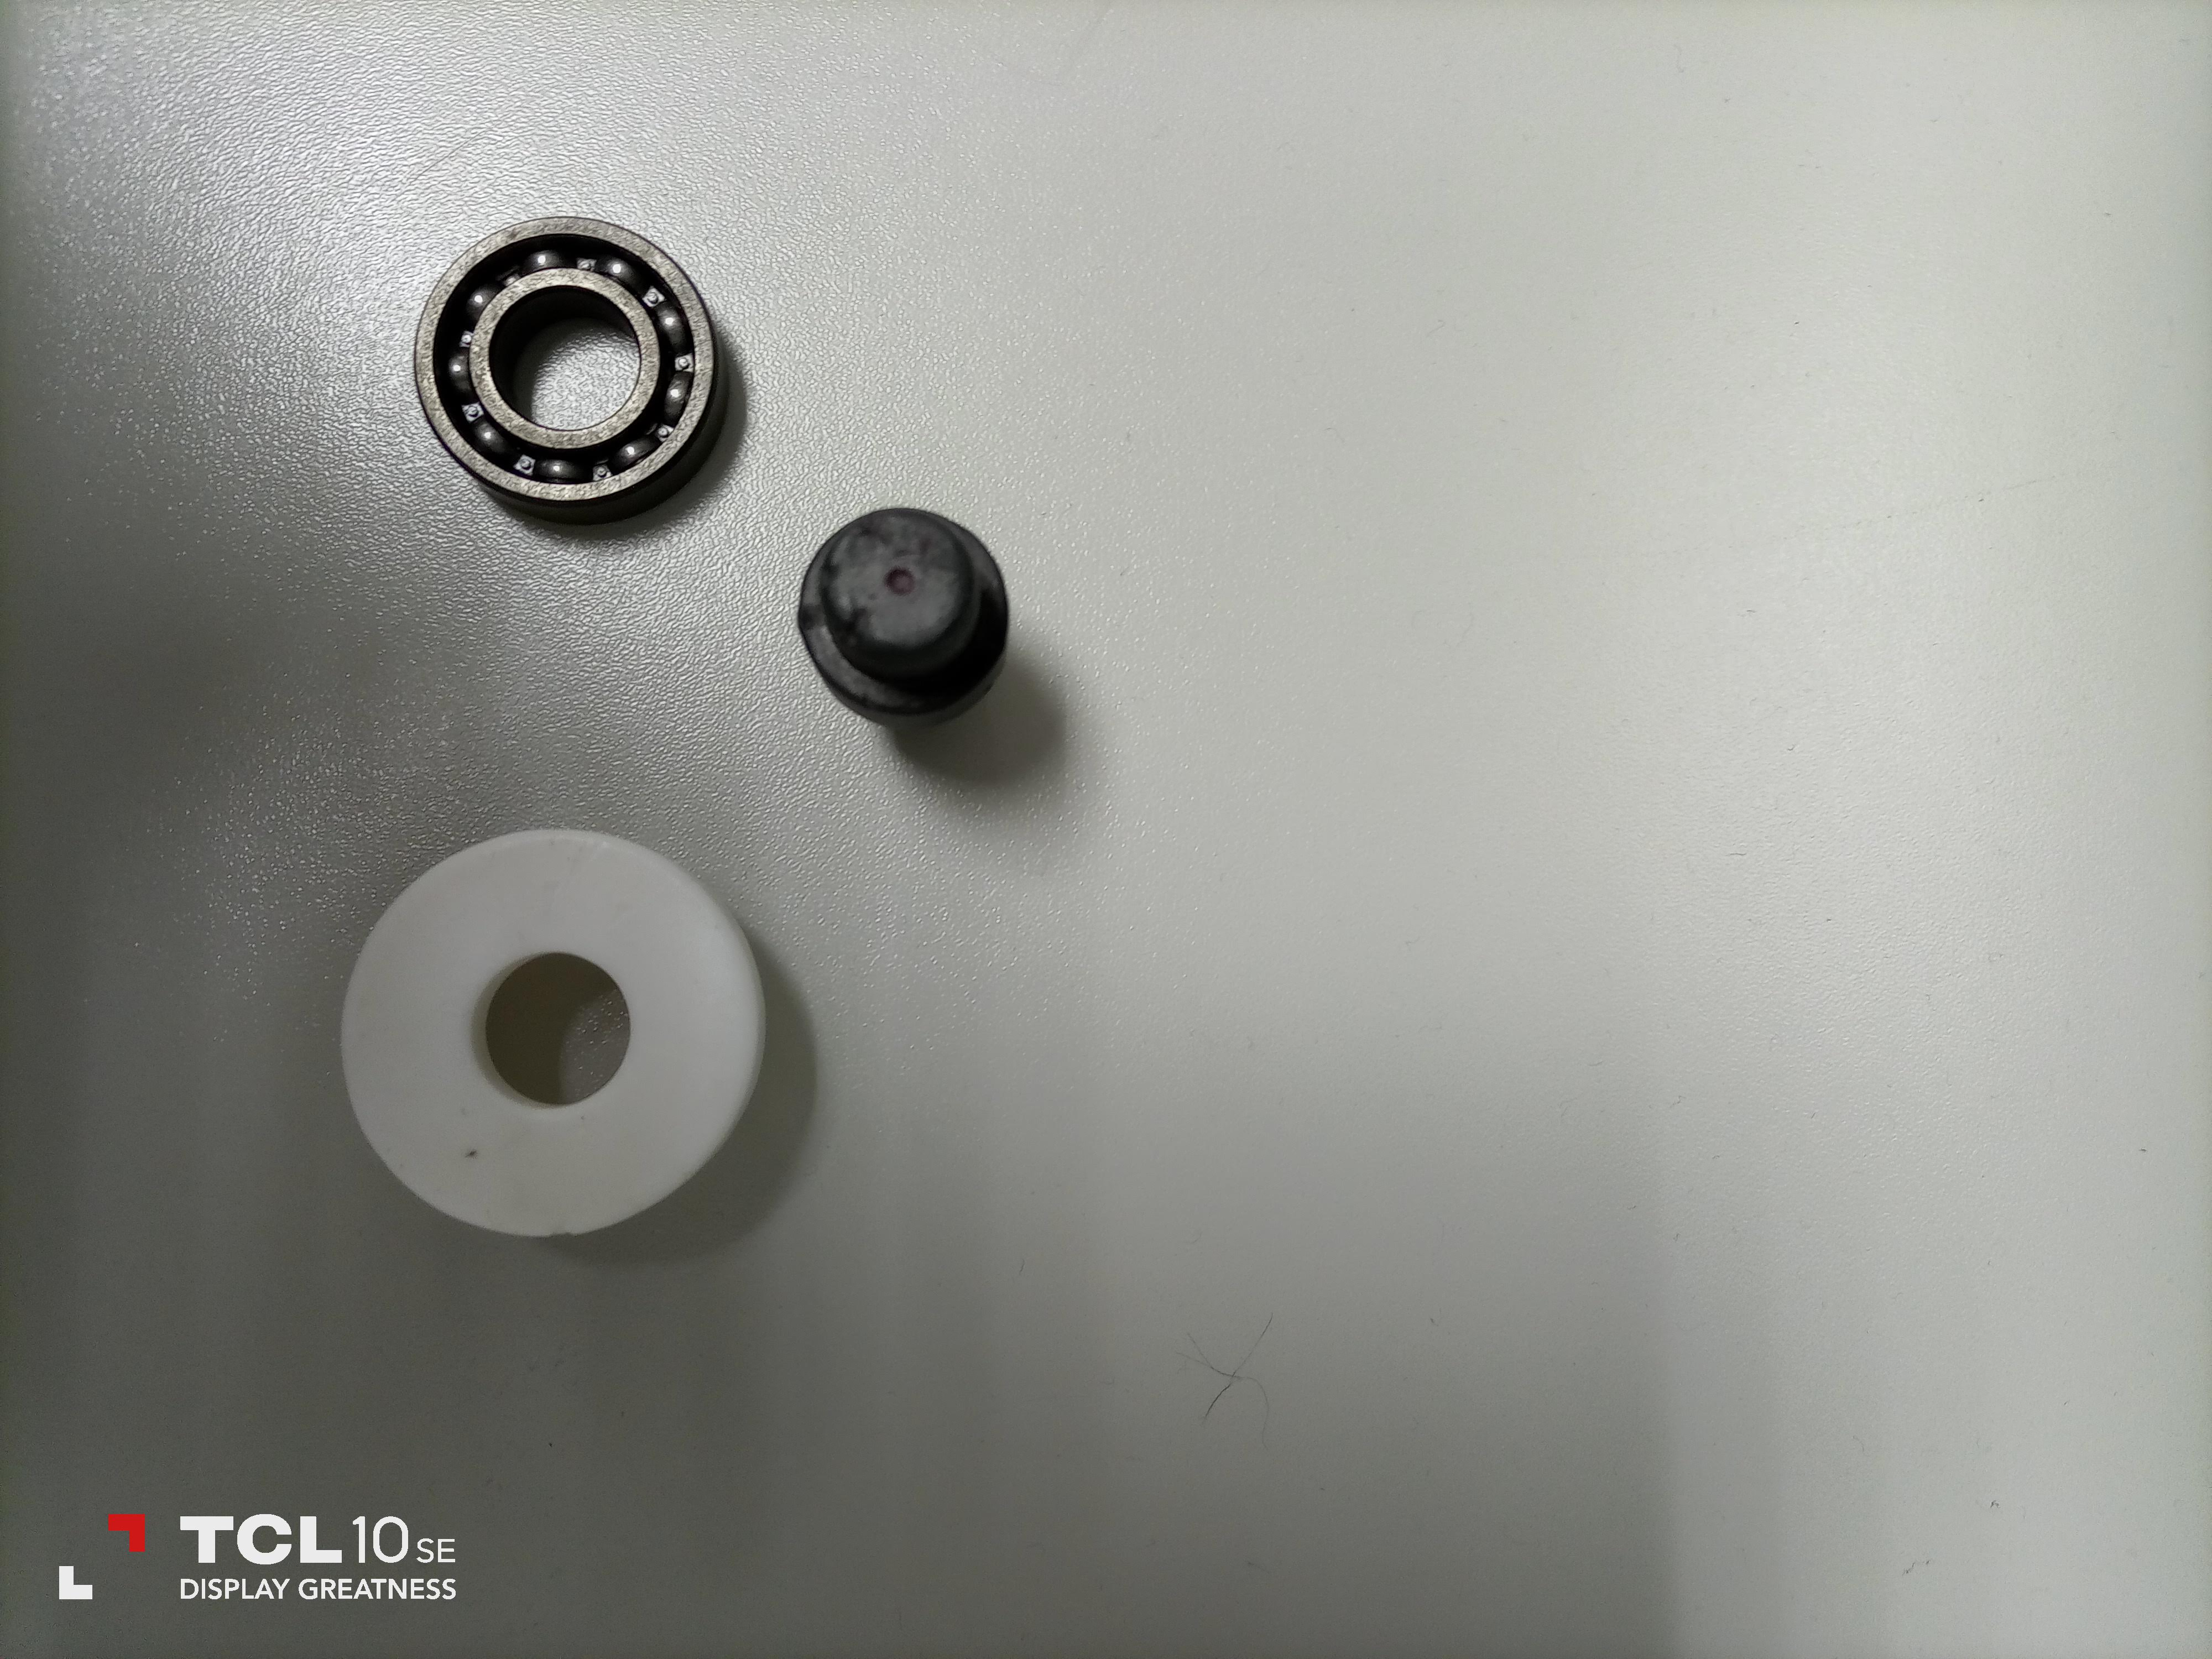Ardatza: (791, 509, 1021, 727)
Roda: (401, 218, 716, 505)
Tapa: (329, 833, 768, 1239)
